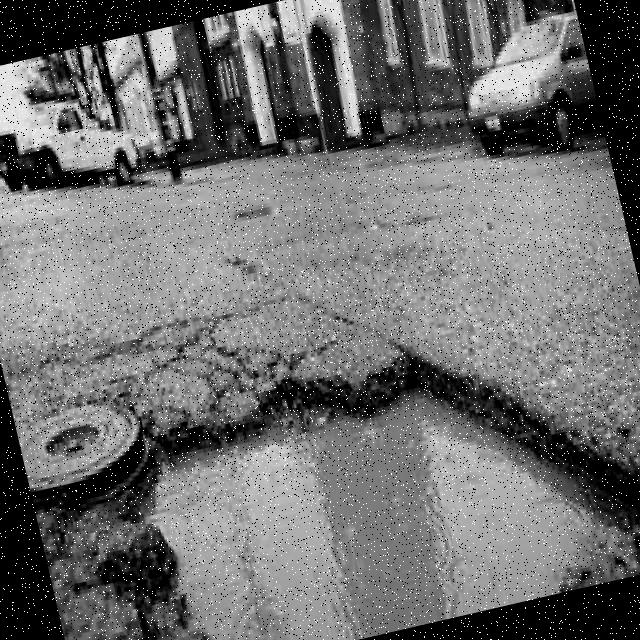pothole: (60, 384, 640, 640)
